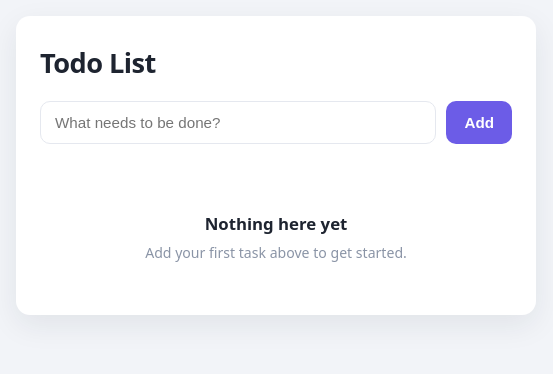
Test case: Todo app › clears completed todos only
The width and height of the screenshot is (553, 374).
Type "Keep me" into the field named "new todo text" at point(238, 122), box [40,101,436,144]
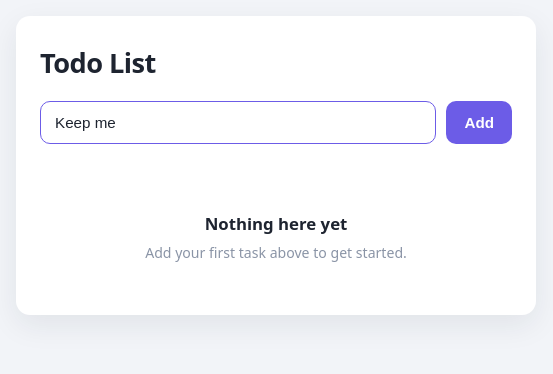
Click the button "Add" at point(479, 122), box [446,101,512,144]
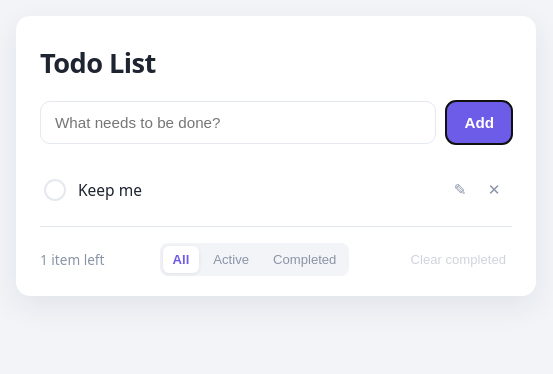
Type "Clear me" into the field named "new todo text" at point(238, 122), box [40,101,436,144]
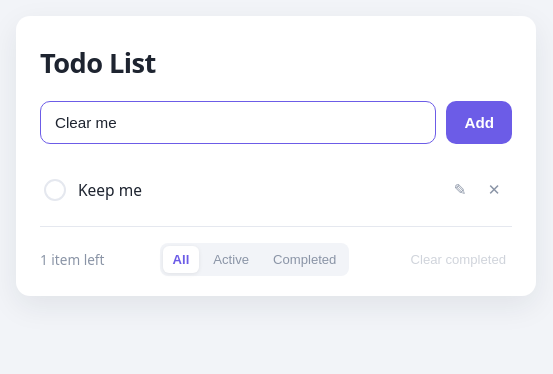
Click the button "Add" at point(479, 122), box [446,101,512,144]
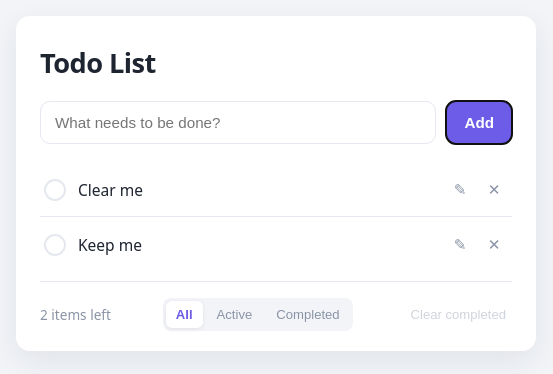
Click the checkbox named "mark \"clear me\" as completed" at point(55, 190), box [44,179,66,201]
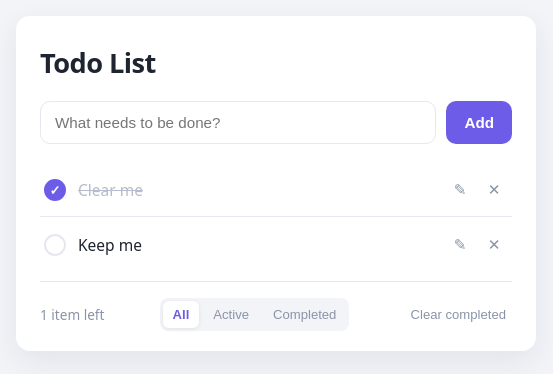
Click the button "Clear completed" at point(458, 314), box [404,306,512,323]
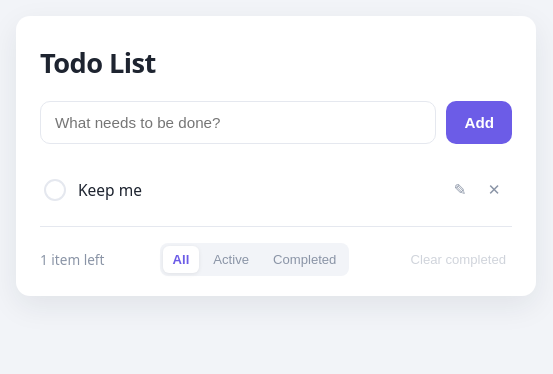
Now the text "Keep me" is shown, box [78,179,142,201]
Now the text "Clear me" is gone
